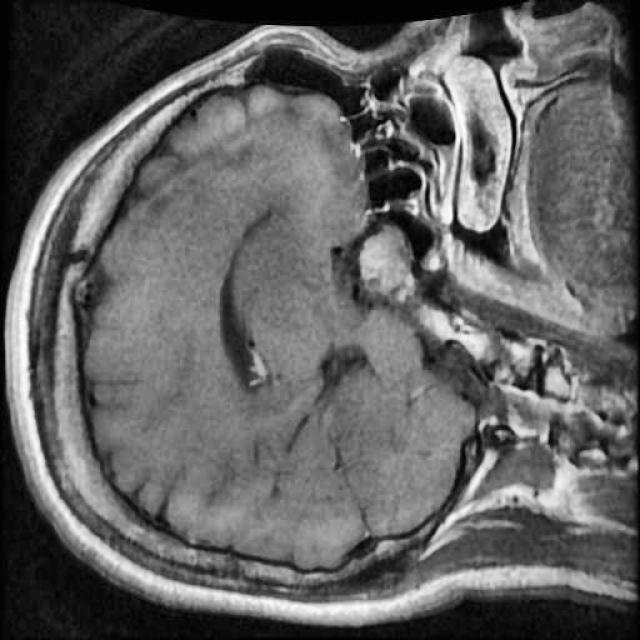Tumor: (349, 214, 429, 324)
